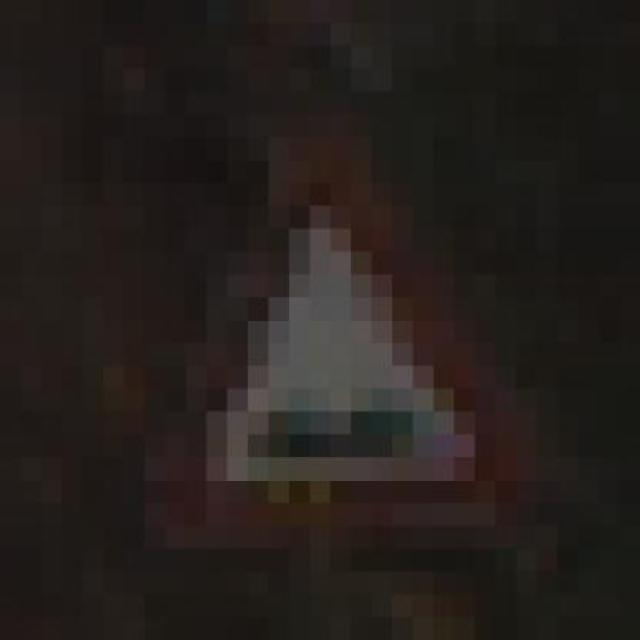Uneven Road: (123, 91, 537, 572)
